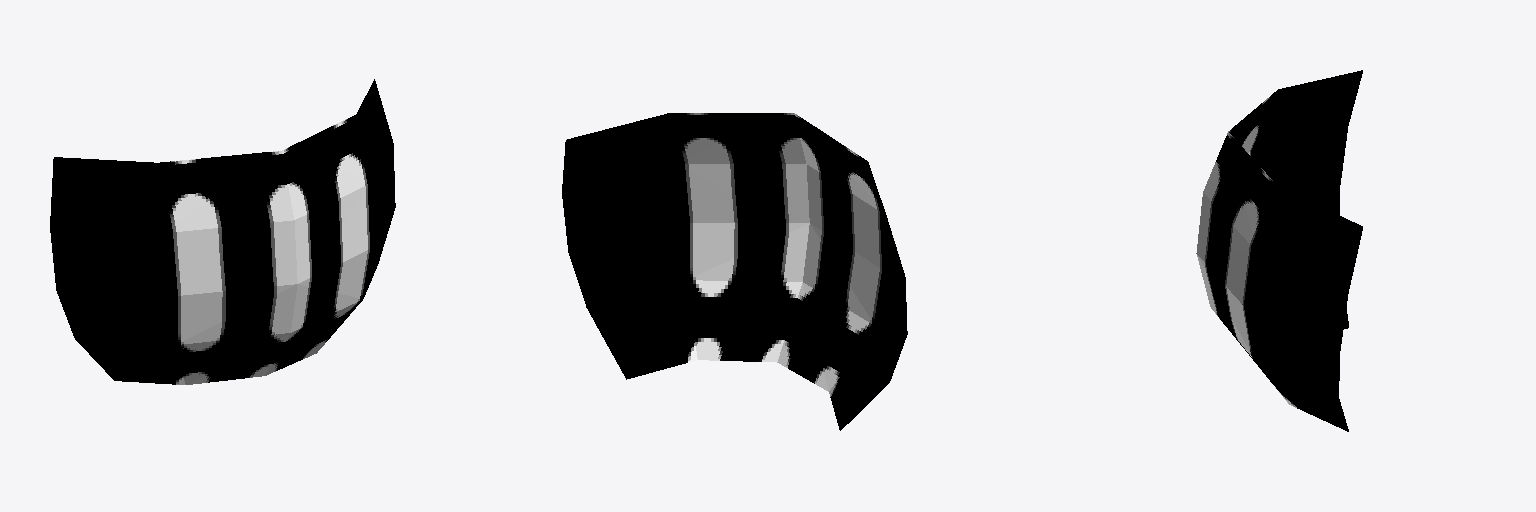
The picture shows the model from 3 angles: view 1: azimuth 30°, elevation 25°; view 2: azimuth 150°, elevation 25°; view 3: azimuth 270°, elevation 25°; orthographic projection.
Visible parts, largest first — view 1: polygon0; view 2: polygon0; view 3: polygon0.
Boxes of the visible parts, x1,y1,x2,y2 form: polygon0: [50, 79, 395, 384]; polygon0: [562, 113, 907, 430]; polygon0: [1196, 70, 1362, 431].
Size of the model in its own units: 4.04 by 2.79 by 1.7.
1 materials, 1 textured.